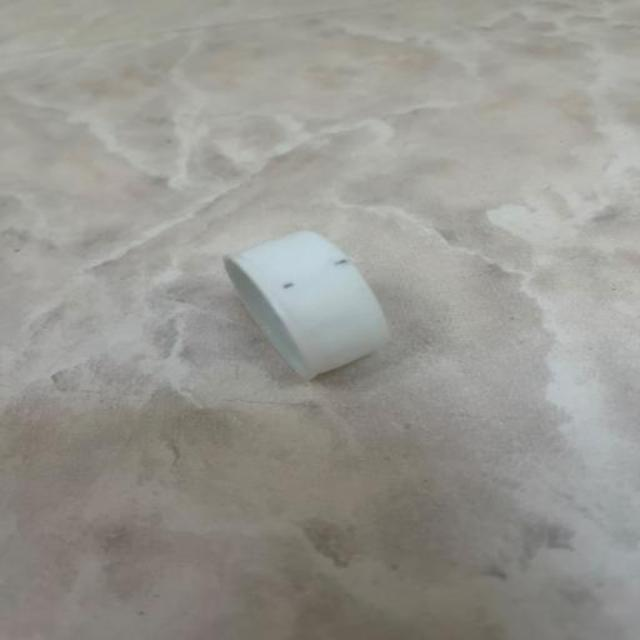HDPE: (140, 105, 528, 526)
